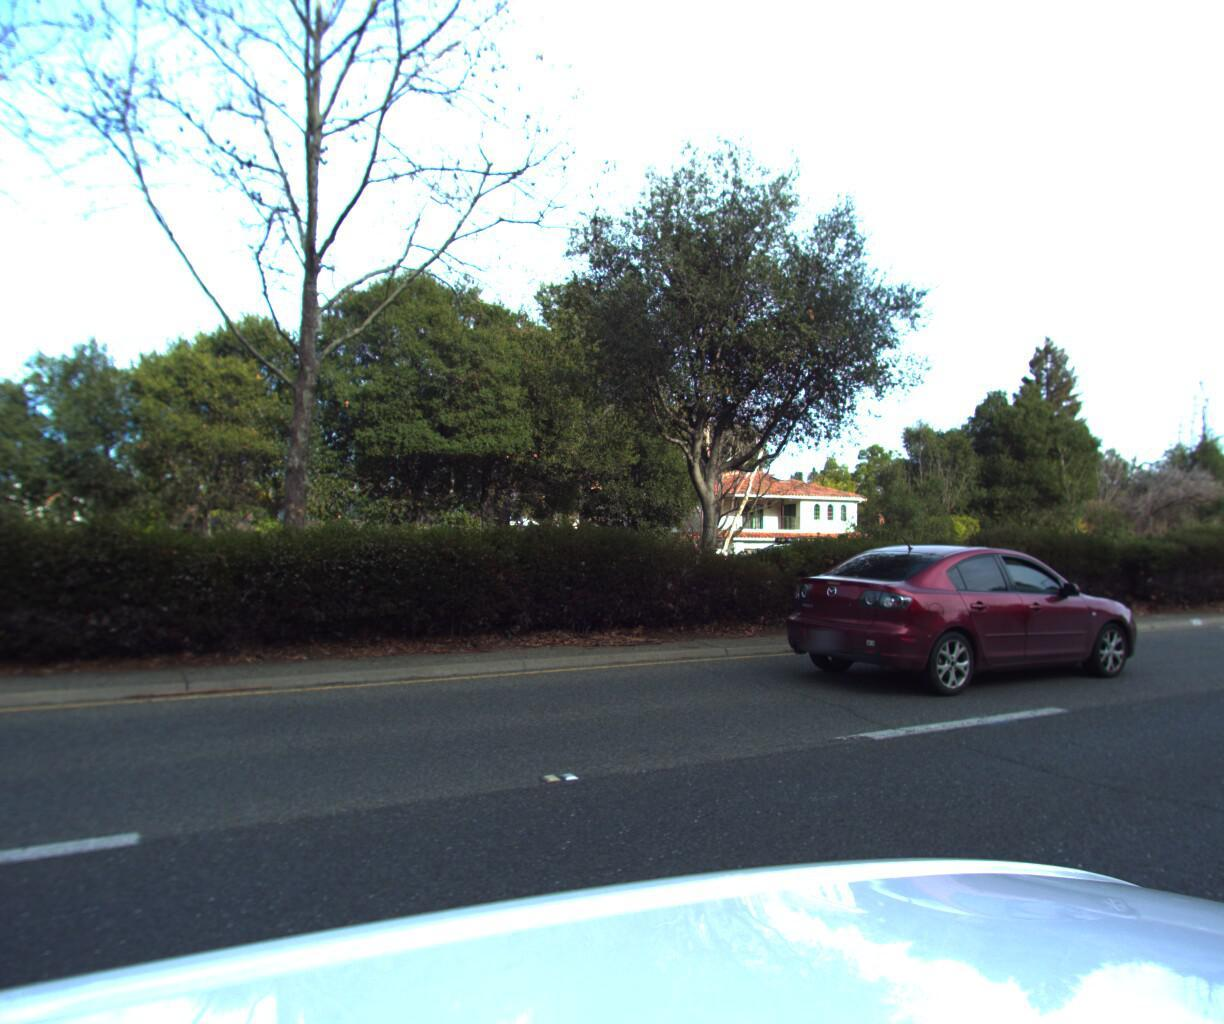car: (768, 538, 1156, 705), (699, 534, 858, 597)
